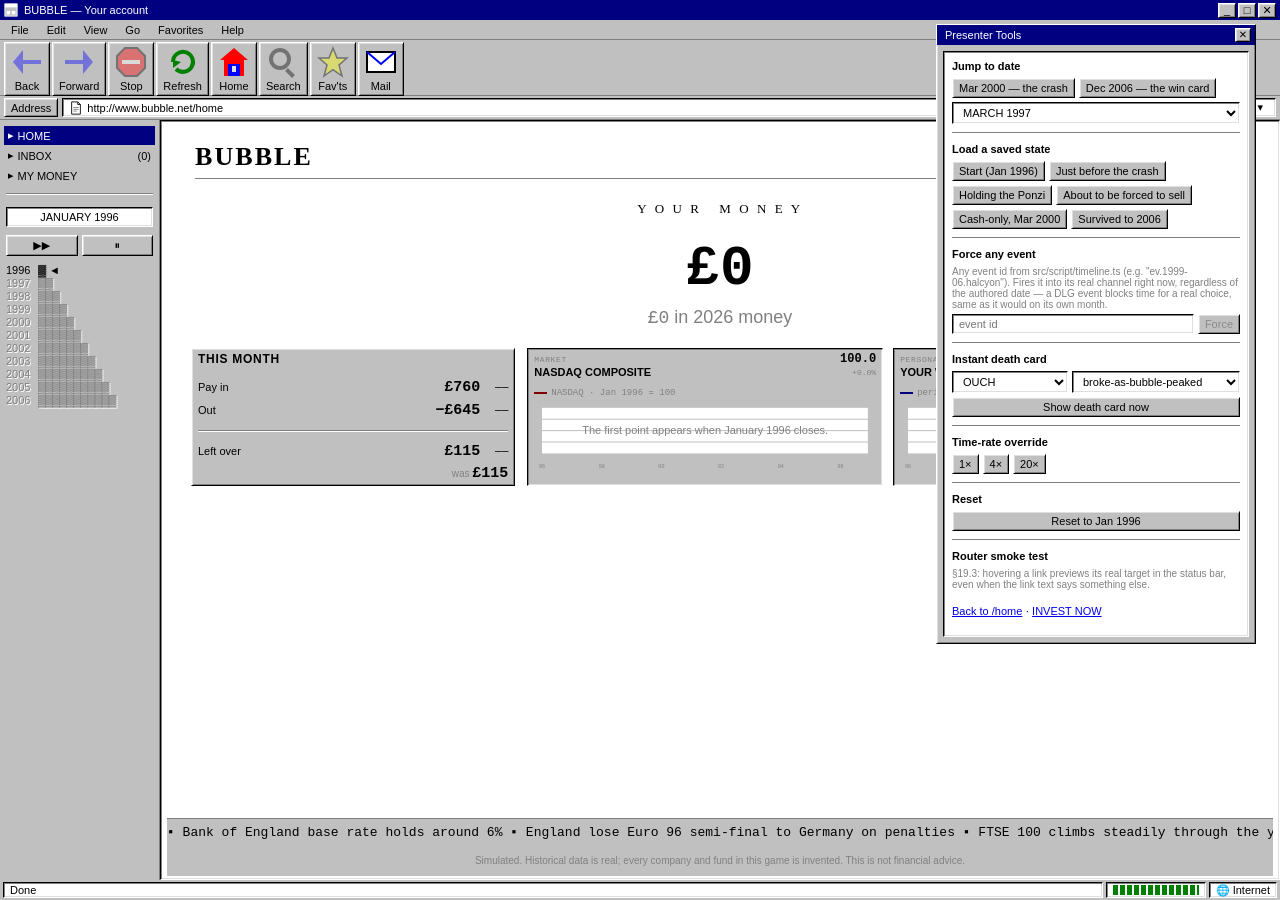
it: §25.5 — the demo path, beat by beat, driven through the real AppShell › Feb/Mar 1997 — the windfall opens, and Meridian is cleanly declined
Step 1. Select "MARCH 1997" in the dropdown named "Jump to any month" → (1096, 113), box [952,102,1240,124]
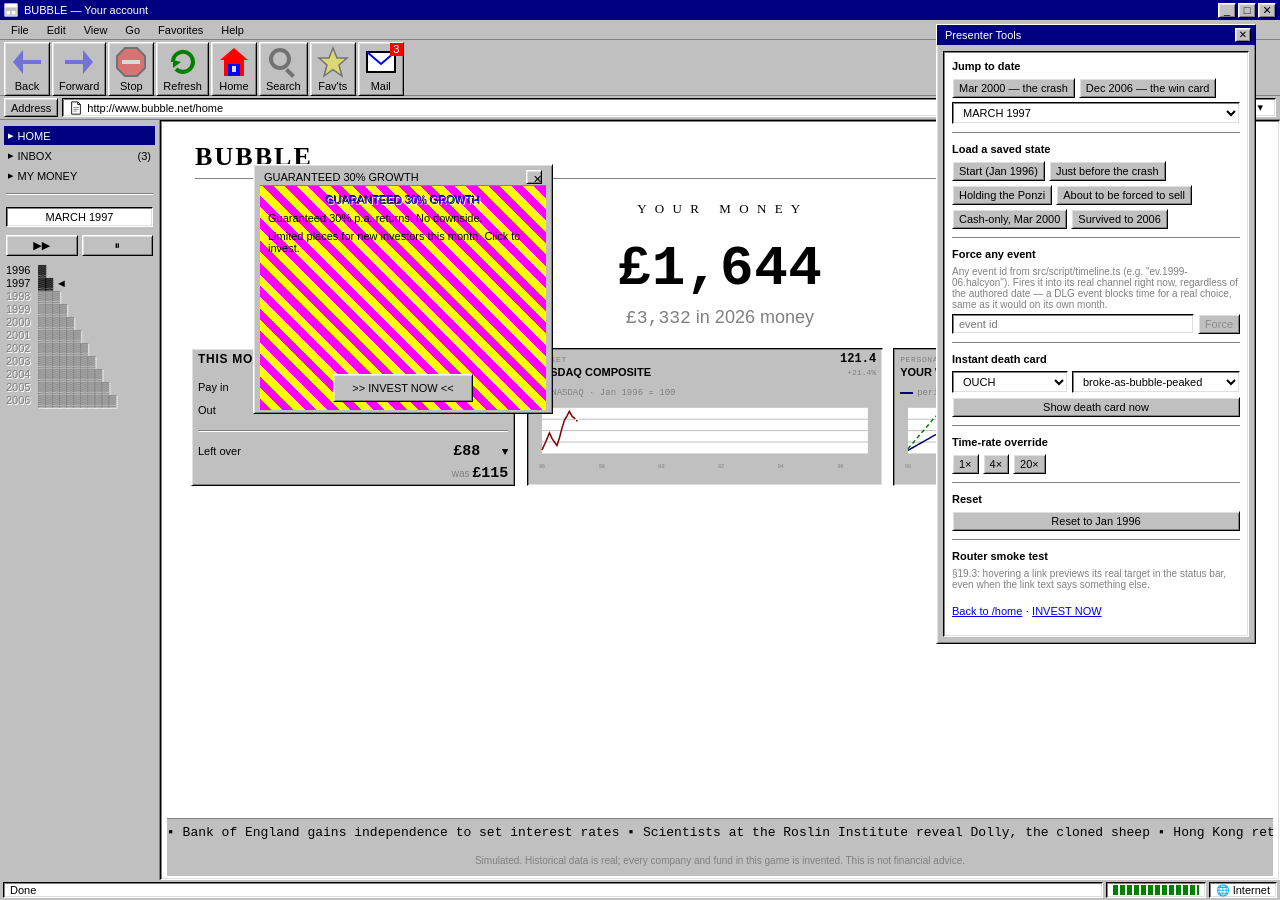
Step 2. Click the button with class "comet-popup__close" → (534, 176), box [526,170,542,184]
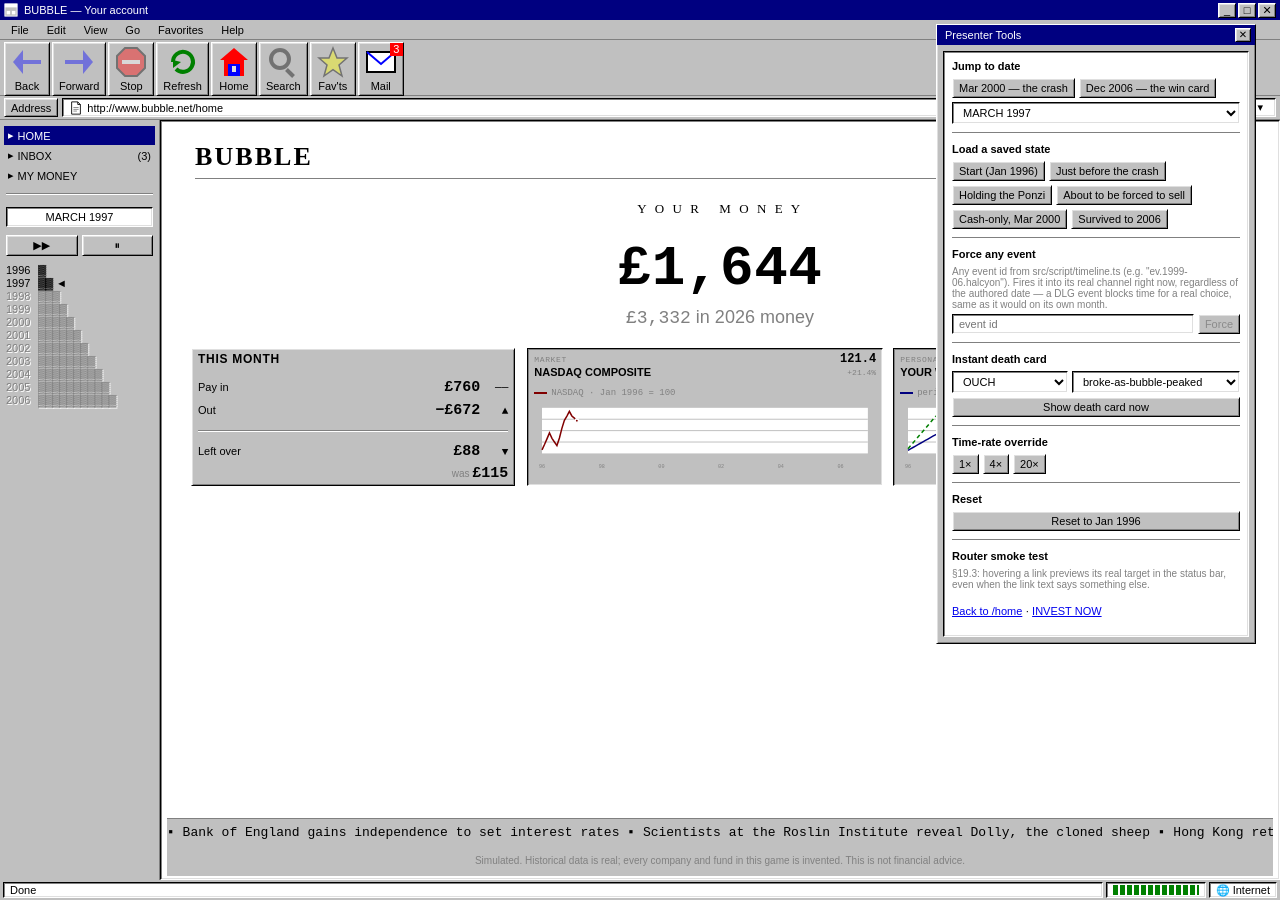
Step 3. Click the button with class "comet-sidebar__item" showing "▸ INBOX (3)" → (80, 156), box [4,146,155,165]
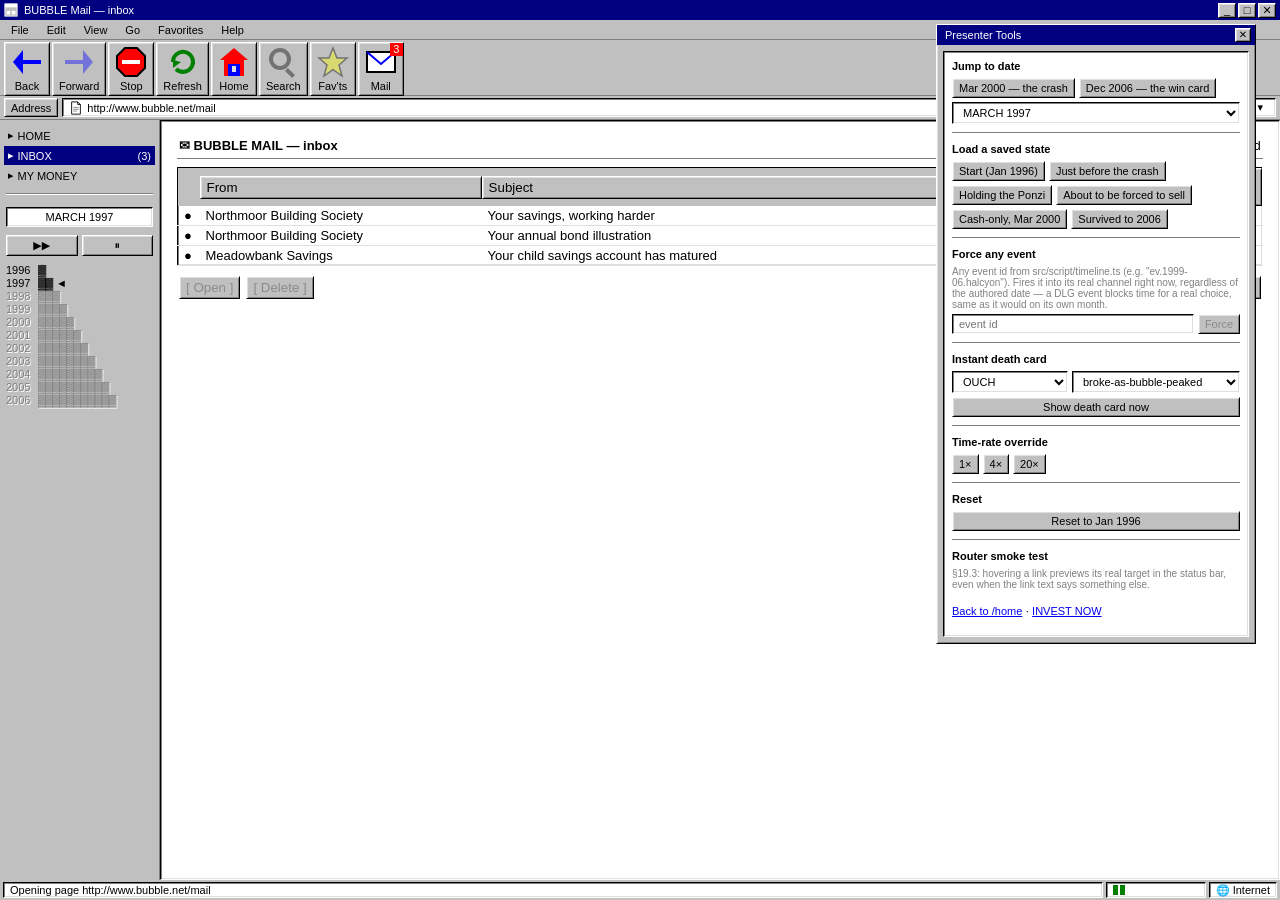
Expected: the row with class "mail-row" that starts with "Meadowbank Savings" is shown
Step 4. Double-click the row with class "mail-row" that starts with "Meadowbank Savings" → (720, 256), box [178,246,1262,266]
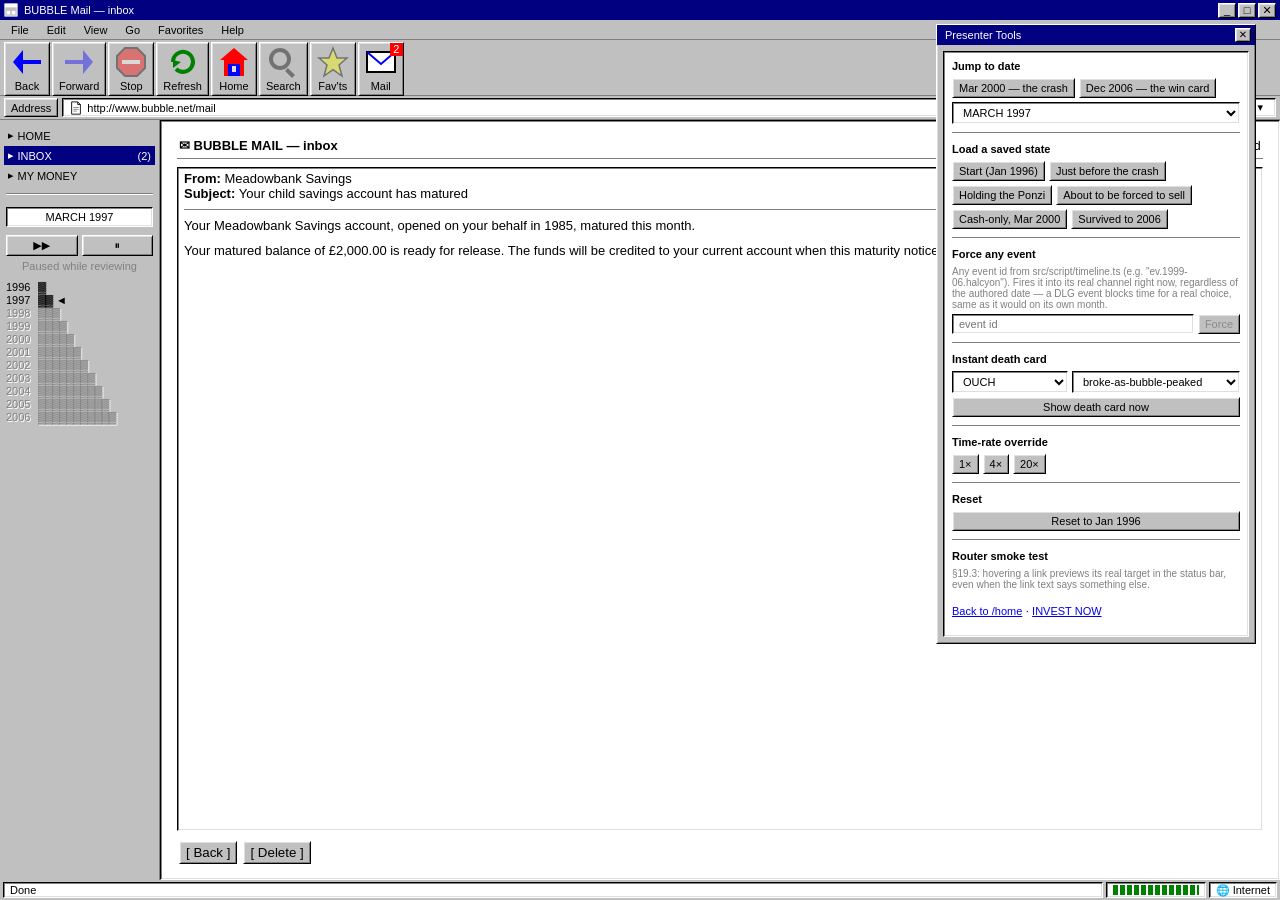
Expected: the element with class "mail-message" shows "matured", [239,186,468,201]
